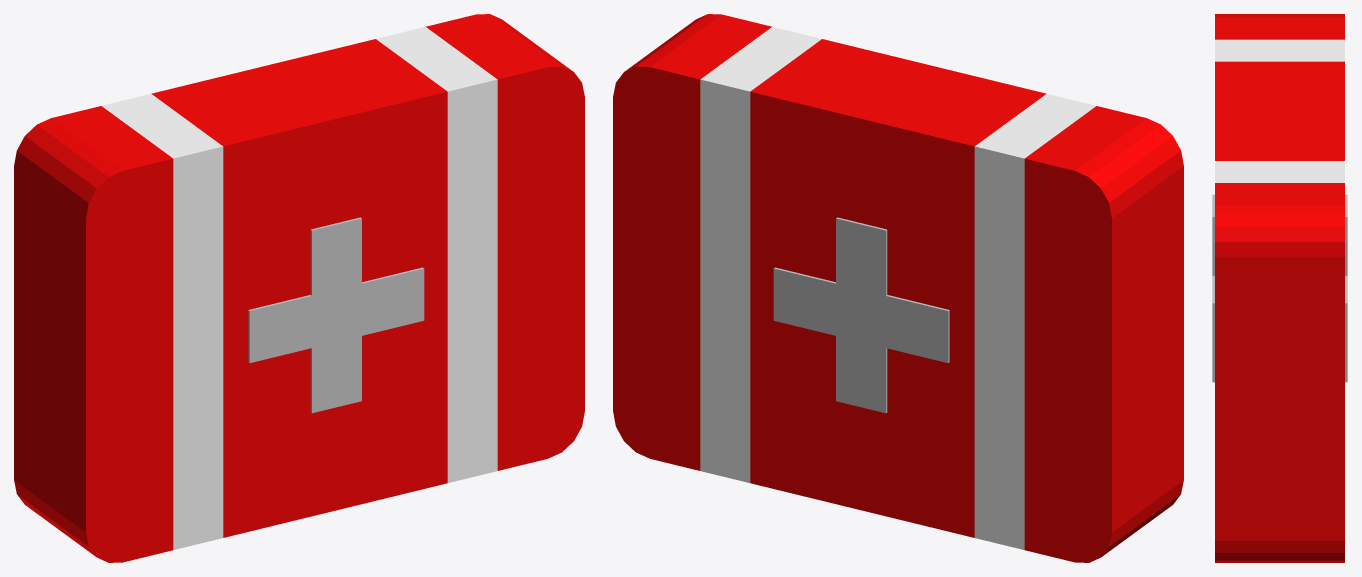
Rendered from healkit.obj.
3 views of the same model, side by side, from view 1: azimuth 30°, elevation 25°; view 2: azimuth 150°, elevation 25°; view 3: azimuth 270°, elevation 25° (orthographic). The views are drawn at different scales.
Parts seen in each view (by area): view 1: Cube.003; view 2: Cube.003; view 3: Cube.003.
Part boxes in pixels (box(x1,y1,x2,y2)): Cube.003: box(14, 14, 584, 562); Cube.003: box(613, 14, 1183, 562); Cube.003: box(1212, 14, 1347, 562).
Size of the model in its own units: 1.4 by 1.05 by 0.364.
